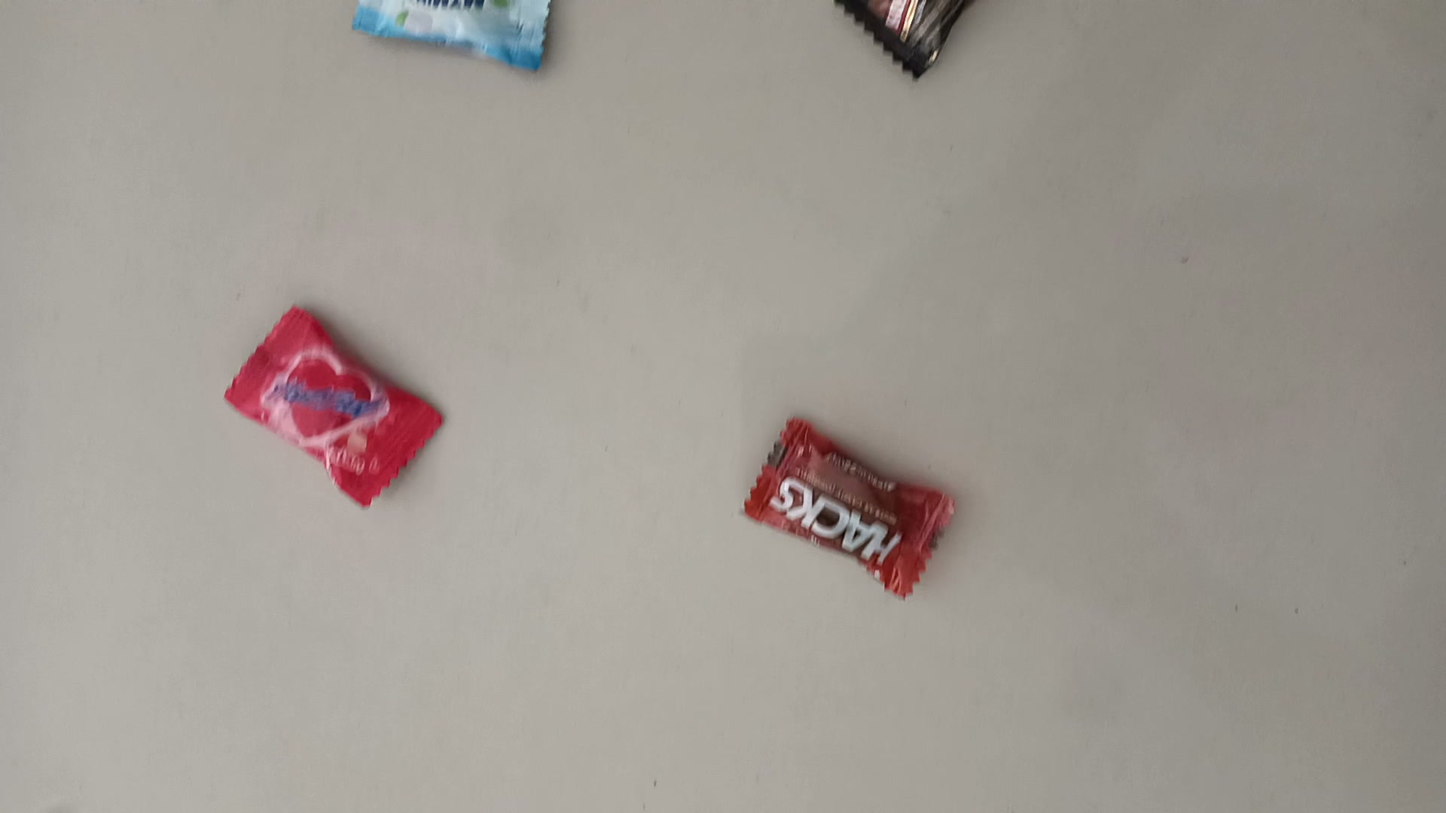HACK: (787, 409, 1002, 525)
HB: (292, 278, 520, 420)
